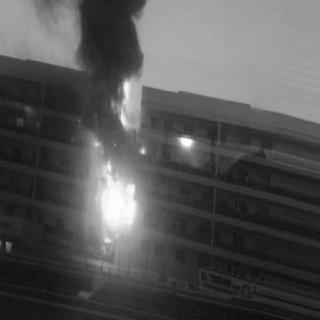other: (176, 130, 197, 154)
